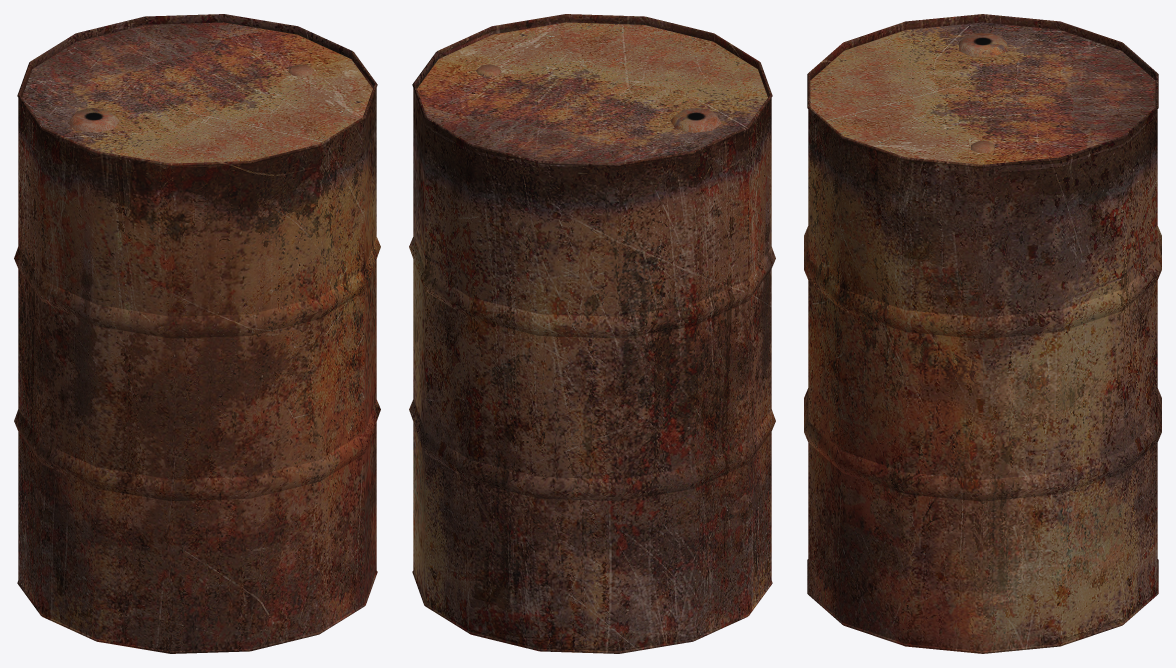
File: metalBarrel.fbx
3 renders of one model, left to right at view 1: azimuth 30°, elevation 25°; view 2: azimuth 150°, elevation 25°; view 3: azimuth 270°, elevation 25°, orthographic.
Visible parts, largest first — view 1: metal_barrel; view 2: metal_barrel; view 3: metal_barrel.
Part boxes in pixels (x1=…): metal_barrel: x1=14, y1=14, x2=380, y2=653; metal_barrel: x1=409, y1=14, x2=775, y2=653; metal_barrel: x1=804, y1=14, x2=1161, y2=653.
Size of the model in its own units: 10.52 by 15.46 by 10.25.
